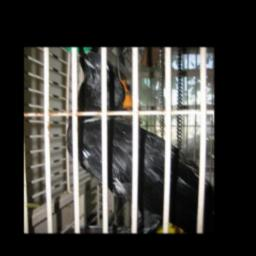Crow: (67, 50, 214, 233)
